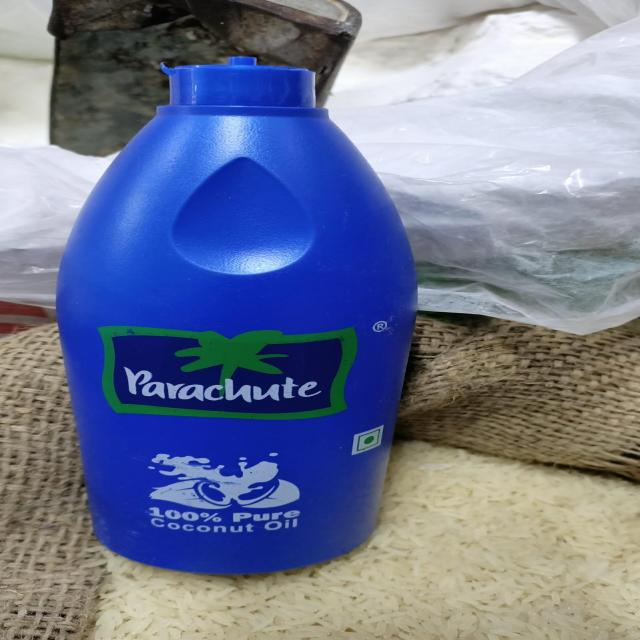parachute_oil: (51, 54, 439, 580)
